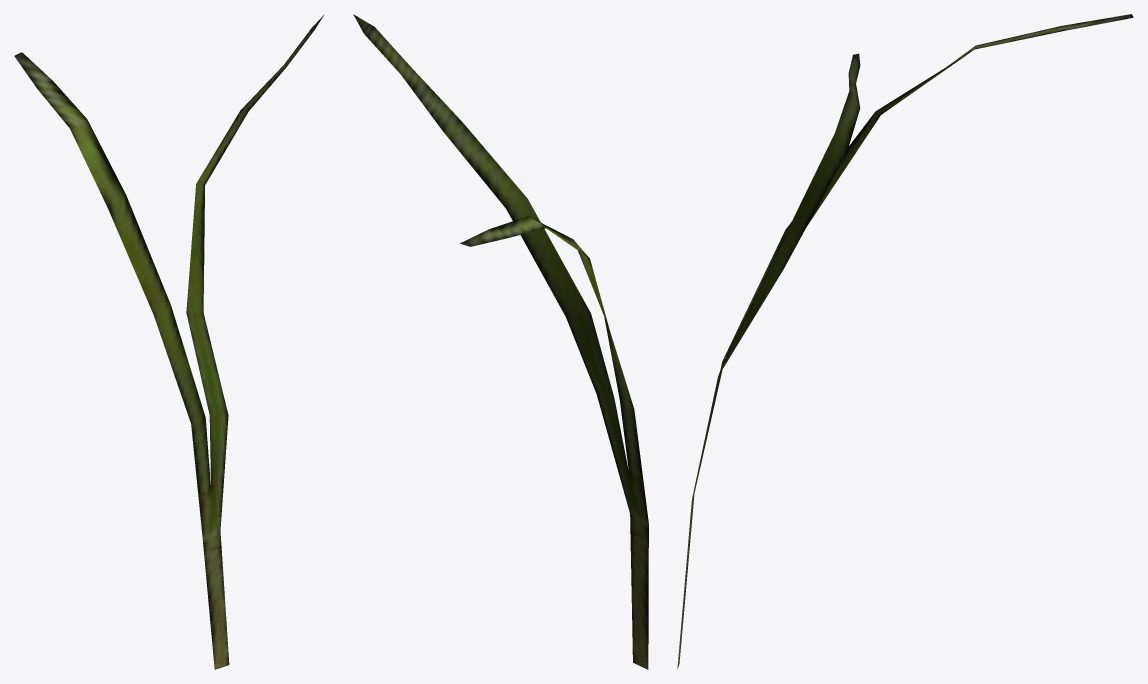
File: SM_Grass_13.gltf
The picture shows the model from 3 angles, left to right: view 1: azimuth 30°, elevation 25°; view 2: azimuth 150°, elevation 25°; view 3: azimuth 270°, elevation 25°; orthographic projection. The views are drawn at different scales.
Parts seen in each view (by area): view 1: SM_Grass_13; view 2: SM_Grass_13; view 3: SM_Grass_13.
Boxes of the visible parts, x1,y1,x2,y2 form: SM_Grass_13: (14,14,324,669); SM_Grass_13: (353,14,648,669); SM_Grass_13: (677,14,1133,669).
Bounding box in the file's own units: 0.0236 × 0.0602 × 0.0344.
Materials: 1 (1 with a texture image).
